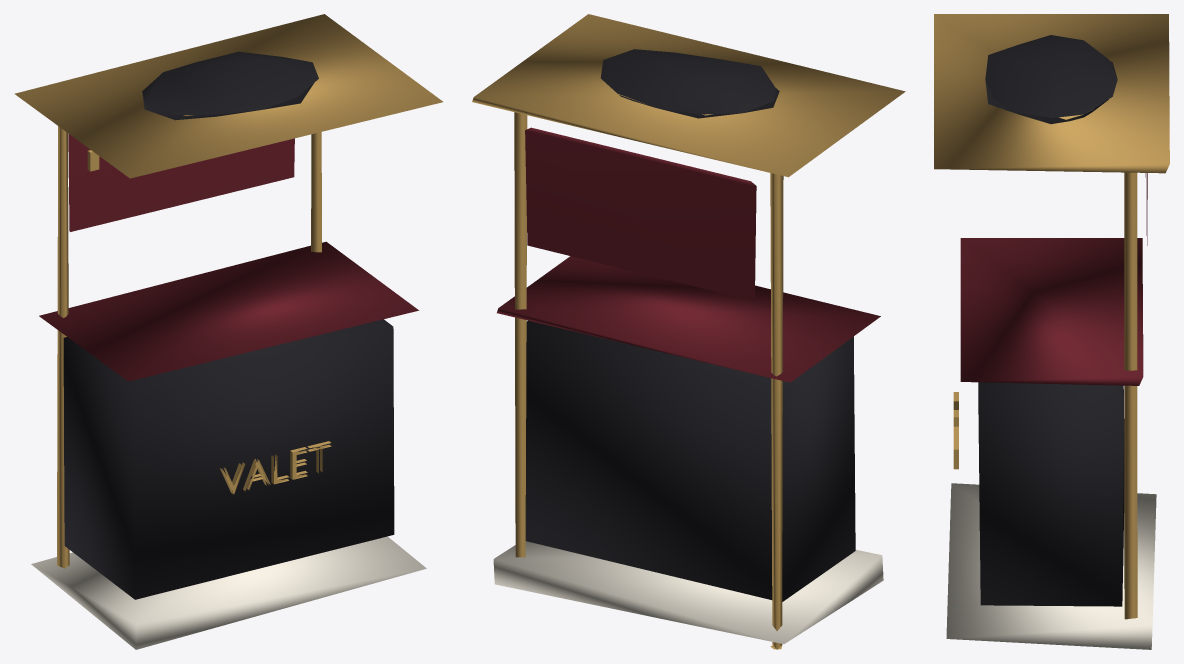
Rendered from lod_valet_stand.glb.
3 renders of one model, left to right at view 1: azimuth 30°, elevation 25°; view 2: azimuth 150°, elevation 25°; view 3: azimuth 270°, elevation 25°, orthographic.
Visible parts, largest first — view 1: valet_stand; view 2: valet_stand; view 3: valet_stand.
Boxes of the visible parts, x1,y1,x2,y2 form: valet_stand: [14, 14, 442, 649]; valet_stand: [472, 14, 905, 649]; valet_stand: [934, 14, 1169, 649].
Bounding box in the file's own units: 1.39 × 2.18 × 0.891.
